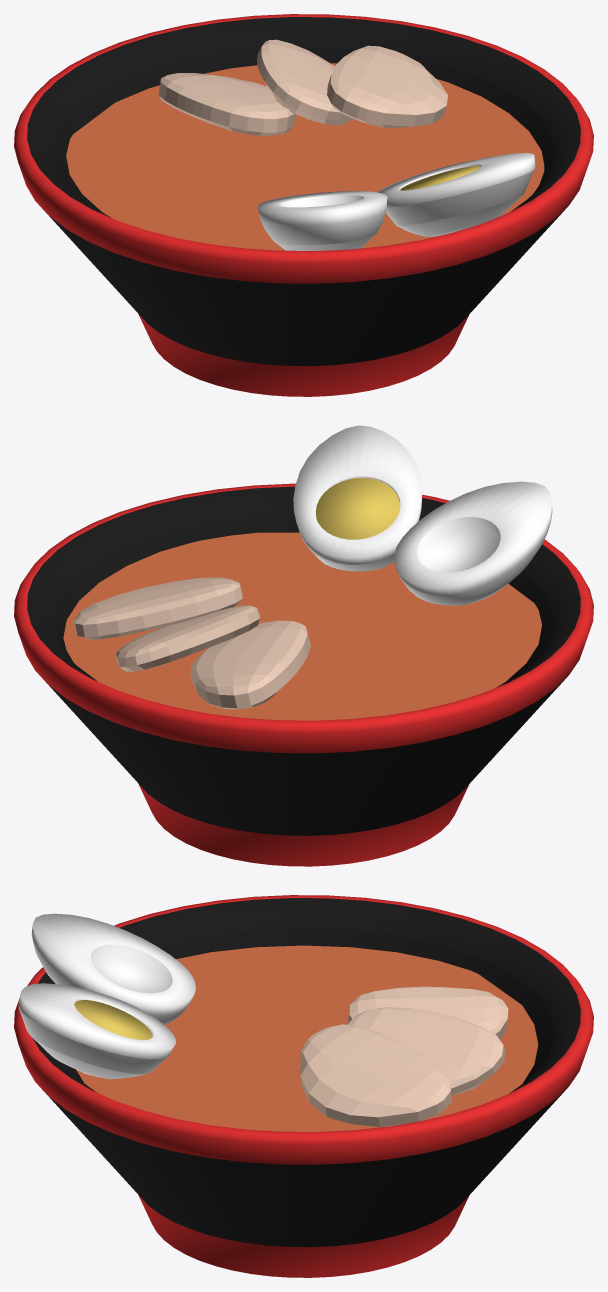
The model's file is food - Copy.fbx.
The picture shows the model from 3 angles, top to bottom: view 1: azimuth 30°, elevation 25°; view 2: azimuth 150°, elevation 25°; view 3: azimuth 270°, elevation 25°; orthographic projection.
Parts seen in each view (by area): view 1: polySurface5, polySurface56, polySurface309, polySurface15, polySurface307, polySurface11, polySurface13, polySurface310; view 2: polySurface5, polySurface56, polySurface307, polySurface309, polySurface11, polySurface15, polySurface13, polySurface310; view 3: polySurface5, polySurface56, polySurface15, polySurface307, polySurface309, polySurface13, polySurface11, polySurface310.
Boxes of the visible parts, left/top/right/bottom form: polySurface5: left=14, top=14, right=593, bottom=396; polySurface56: left=66, top=63, right=544, bottom=250; polySurface309: left=377, top=152, right=535, bottom=236; polySurface15: left=327, top=45, right=447, bottom=127; polySurface307: left=258, top=191, right=387, bottom=250; polySurface11: left=158, top=73, right=295, bottom=135; polySurface13: left=257, top=39, right=353, bottom=125; polySurface310: left=400, top=166, right=480, bottom=190; polySurface5: left=14, top=483, right=593, bottom=866; polySurface56: left=63, top=532, right=541, bottom=720; polySurface307: left=394, top=481, right=552, bottom=605; polySurface309: left=293, top=425, right=422, bottom=571; polySurface11: left=190, top=620, right=310, bottom=709; polySurface15: left=74, top=577, right=242, bottom=639; polySurface13: left=116, top=605, right=260, bottom=671; polySurface310: left=315, top=478, right=400, bottom=539; polySurface5: left=14, top=895, right=593, bottom=1277; polySurface56: left=76, top=945, right=538, bottom=1131; polySurface15: left=300, top=1024, right=452, bottom=1126; polySurface307: left=31, top=913, right=195, bottom=1024; polySurface309: left=18, top=983, right=175, bottom=1079; polySurface13: left=347, top=1007, right=505, bottom=1095; polySurface11: left=348, top=986, right=508, bottom=1039; polySurface310: left=74, top=1000, right=152, bottom=1039.
Size of the model in its own units: 27.7 by 13.69 by 27.7.
